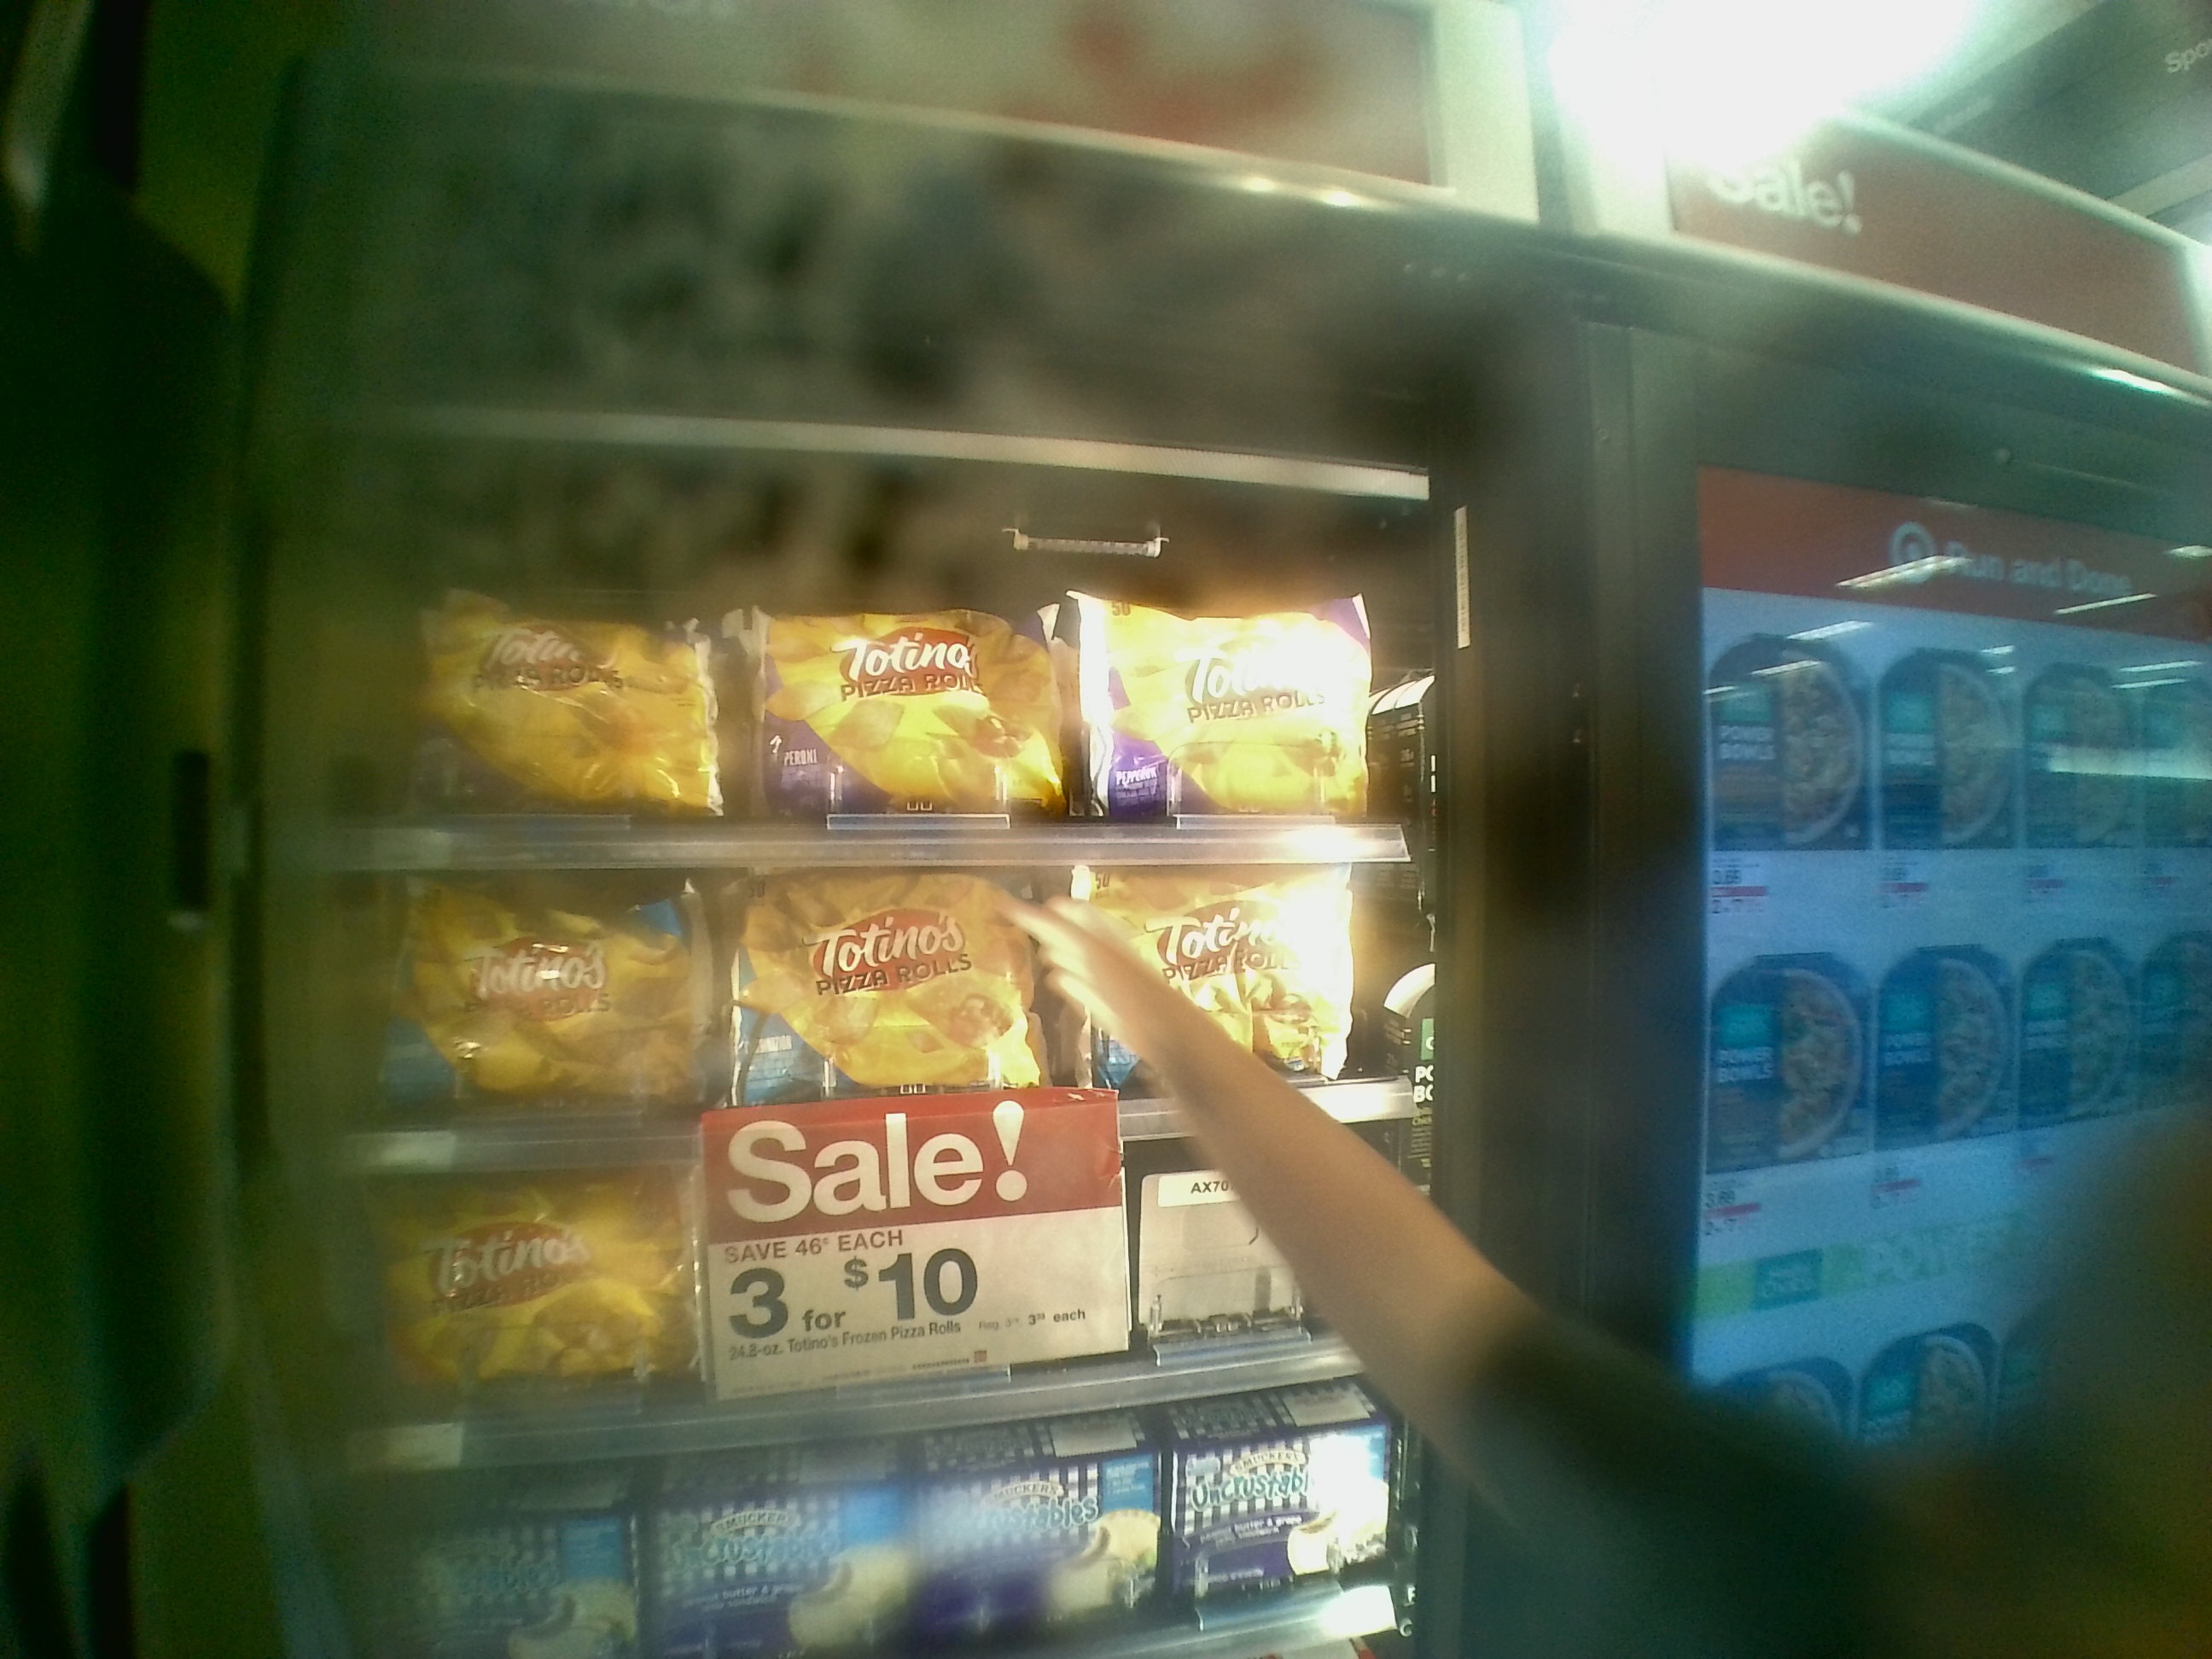shelf: (326, 403, 1418, 859)
